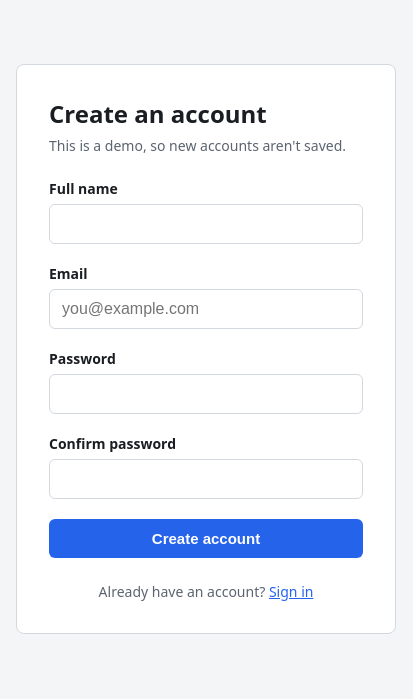
SignUpPage › shows a message under every field when the form is empty
Click the button "Create account". click: (206, 538)
box: [49,519,363,558]
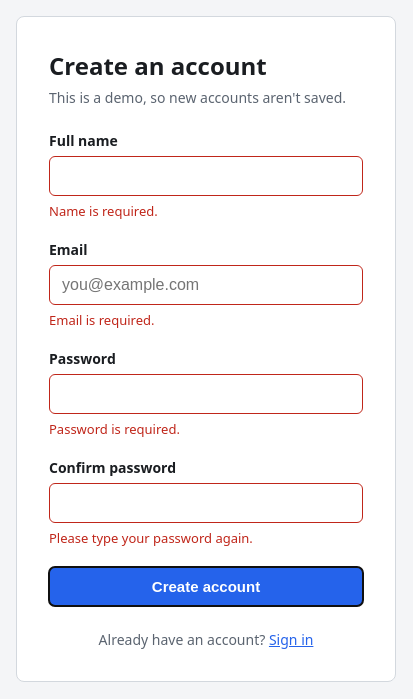
Now the text "Name is required." is shown, box [49,202,158,220]
Now the text "Email is required." is shown, box [49,311,154,329]
Now the text "Password is required." is shown, box [49,420,180,438]
